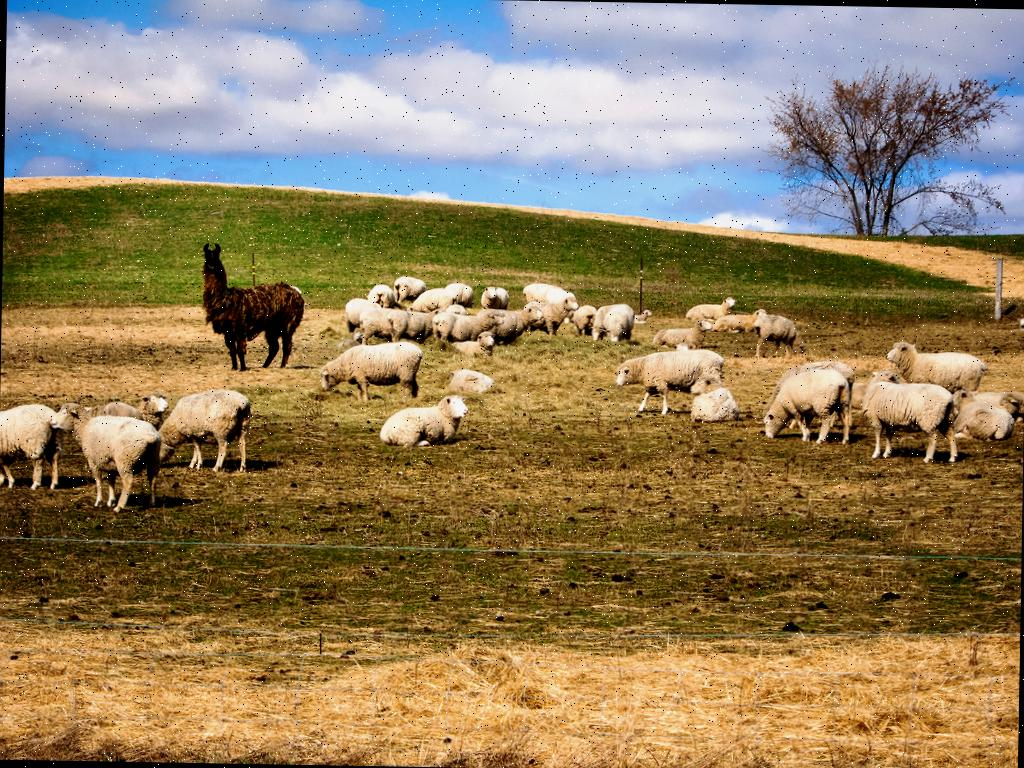Sheep: (62, 406, 164, 514), (841, 380, 953, 457), (154, 388, 250, 475), (612, 346, 724, 415), (760, 365, 852, 443), (316, 339, 423, 402), (0, 401, 68, 490), (885, 340, 988, 396), (376, 392, 468, 448), (52, 402, 112, 459), (952, 392, 1020, 442), (752, 310, 806, 360), (70, 396, 158, 423), (432, 310, 496, 346), (524, 296, 574, 337), (357, 306, 409, 344), (592, 303, 638, 343), (654, 318, 708, 350), (343, 295, 384, 335), (672, 348, 725, 378), (408, 286, 459, 314), (446, 368, 496, 395), (685, 296, 736, 321), (522, 282, 573, 306), (710, 310, 761, 334), (392, 275, 426, 304), (480, 286, 508, 310), (474, 308, 507, 326)
